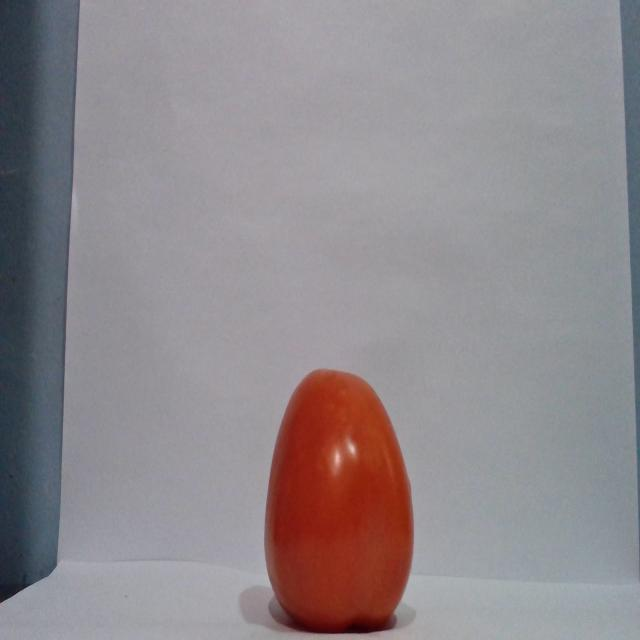Red: (262, 366, 415, 632)
